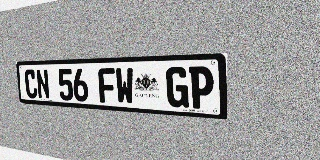5: (58, 69, 74, 101)
6: (72, 68, 89, 102)
C: (24, 69, 38, 99)
F: (98, 68, 116, 104)
G: (166, 67, 189, 108)
N: (36, 69, 50, 99)
P: (189, 66, 214, 110)
W: (115, 68, 134, 105)
